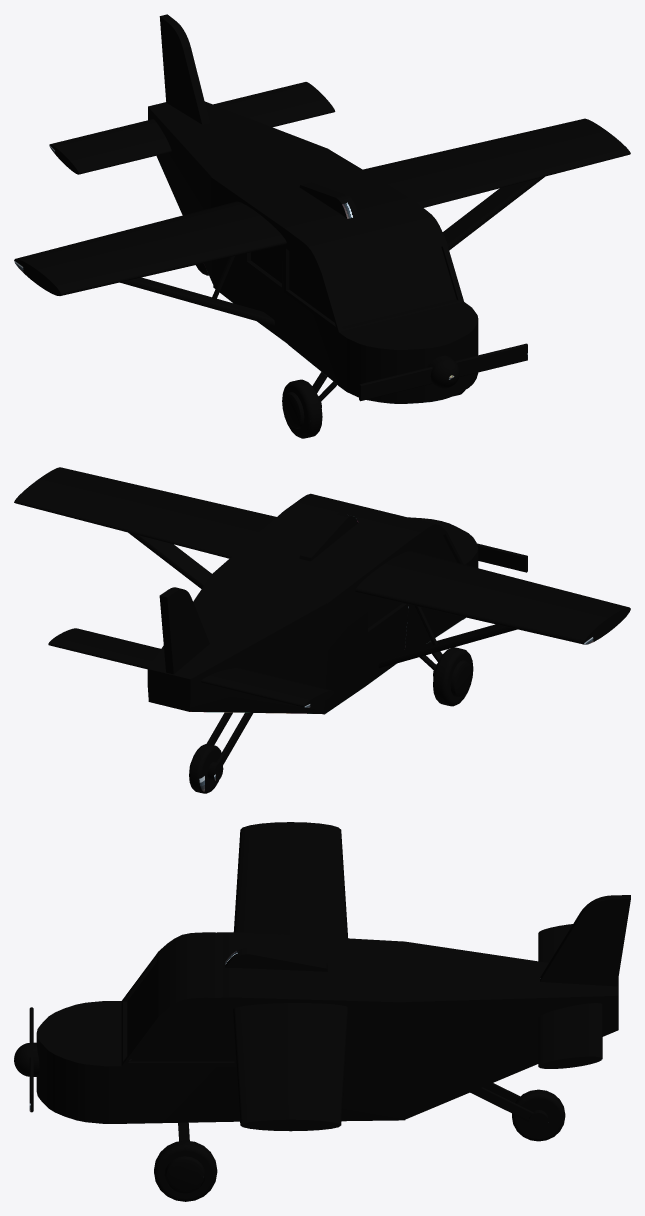
The picture shows the model from 3 angles, top to bottom: view 1: azimuth 30°, elevation 25°; view 2: azimuth 150°, elevation 25°; view 3: azimuth 270°, elevation 25°; orthographic projection. The views are drawn at different scales.
Visible parts, largest first — view 1: FrontWing_R, FrontWing_L, Head_Cockpit, Main_Body, Head_Engine, Tail, Head_Window_M, RearWing_R, Propeller, RearWing_M, RearWing_L, Wheel3 (+3 smaller); view 2: Tail, Main_Body, FrontWing_R, FrontWing_L, Head_Cockpit, Wheel3, RearWing_M, RearWing_R, RearWing_L, Head_Attachment, Head_Engine, Propeller (+1 smaller); view 3: Tail, Main_Body, Head_Cockpit, FrontWing_L, FrontWing_R, Head_Engine, Wheel3, RearWing_M, Head_Window_L, RearWing_L, Head_Window_M, Head_Attachment (+2 smaller).
Boxes of the visible parts, <box> form: FrontWing_R: <box>14,201,286,325</box>; FrontWing_L: <box>363,118,630,250</box>; Head_Cockpit: <box>283,197,463,384</box>; Main_Body: <box>210,148,408,343</box>; Head_Engine: <box>338,302,478,403</box>; Tail: <box>148,101,326,284</box>; Head_Window_M: <box>327,247,456,326</box>; RearWing_R: <box>49,119,171,174</box>; Propeller: <box>359,343,527,401</box>; RearWing_M: <box>159,14,209,124</box>; RearWing_L: <box>213,82,335,127</box>; Wheel3: <box>196,263,465,438</box>; Tail: <box>147,575,327,713</box>; Main_Body: <box>210,511,408,714</box>; FrontWing_R: <box>355,551,630,668</box>; FrontWing_L: <box>14,467,276,588</box>; Head_Cockpit: <box>284,493,462,649</box>; Wheel3: <box>189,610,473,793</box>; RearWing_M: <box>159,587,209,674</box>; RearWing_R: <box>201,668,334,707</box>; RearWing_L: <box>48,628,160,669</box>; Head_Attachment: <box>299,513,358,561</box>; Head_Engine: <box>408,517,478,619</box>; Propeller: <box>477,543,527,572</box>; Tail: <box>404,941,618,1119</box>; Main_Body: <box>240,932,405,1121</box>; Head_Cockpit: <box>121,932,239,1123</box>; FrontWing_L: <box>233,1003,348,1131</box>; FrontWing_R: <box>233,822,347,938</box>; Head_Engine: <box>36,1001,123,1123</box>; Wheel3: <box>154,1083,565,1201</box>; RearWing_M: <box>540,895,630,986</box>; Head_Window_L: <box>130,1018,234,1061</box>; RearWing_L: <box>538,1003,602,1068</box>; Head_Window_M: <box>127,962,156,1055</box>; Head_Attachment: <box>225,948,327,971</box>.
Size of the model in its own units: 23.58 by 20.66 by 9.71.
Materials: 1 (1 with a texture image).
